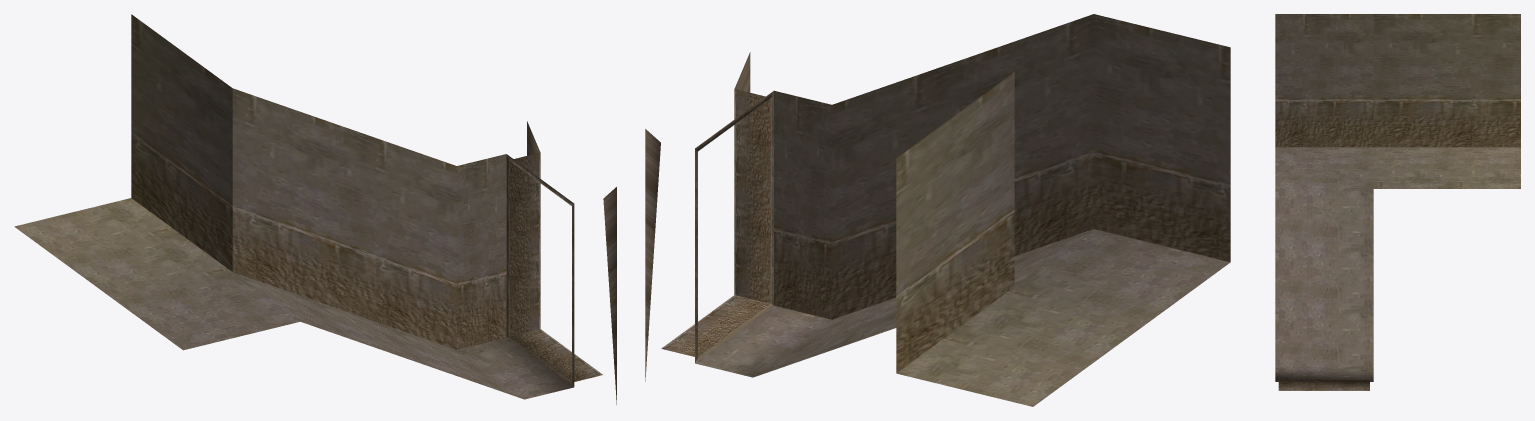
The model's file is M7Z1_CityWall3A_Corridor.glb.
The picture shows the model from 3 angles, left to right: view 1: azimuth 30°, elevation 25°; view 2: azimuth 150°, elevation 25°; view 3: azimuth 270°, elevation 25°; orthographic projection. The views are drawn at different scales.
Visible parts, largest first — view 1: M7Z1_CITYWALL3A_CORRIDOR; view 2: M7Z1_CITYWALL3A_CORRIDOR; view 3: M7Z1_CITYWALL3A_CORRIDOR.
Part boxes in pixels (<box>): M7Z1_CITYWALL3A_CORRIDOR: <box>14,14,616,404</box>; M7Z1_CITYWALL3A_CORRIDOR: <box>645,14,1230,406</box>; M7Z1_CITYWALL3A_CORRIDOR: <box>1275,14,1520,390</box>.
Size of the model in its own units: 7.21 by 5.47 by 5.33.
2 materials, 2 textured.
